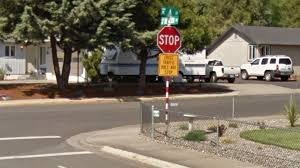stop: (157, 24, 182, 54)
